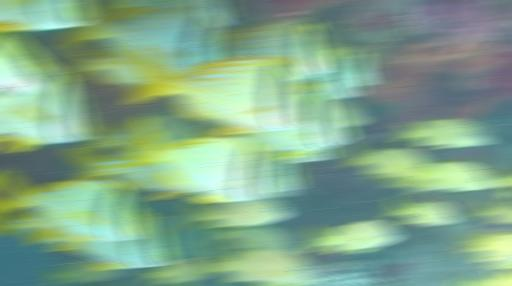Fish: (127, 47, 306, 132), (124, 117, 269, 201), (0, 170, 143, 241), (59, 6, 230, 64), (65, 139, 199, 199), (0, 67, 92, 152), (238, 93, 353, 157), (223, 21, 336, 79), (65, 215, 174, 269), (201, 247, 320, 285), (96, 0, 237, 26), (67, 42, 148, 85), (294, 50, 363, 100), (0, 33, 52, 96), (342, 142, 431, 178), (303, 220, 398, 253), (185, 198, 288, 227), (150, 214, 216, 259), (394, 119, 491, 149), (0, 0, 92, 30), (404, 162, 493, 191), (210, 226, 299, 253), (44, 257, 127, 285), (257, 150, 302, 196), (385, 197, 456, 226), (82, 120, 138, 152), (142, 258, 207, 285), (334, 47, 379, 86), (466, 232, 511, 267), (0, 212, 45, 245), (453, 227, 510, 253), (328, 100, 367, 128), (384, 178, 447, 195), (473, 197, 511, 221), (485, 163, 511, 189), (287, 148, 334, 162), (496, 267, 511, 285), (454, 275, 459, 285)
